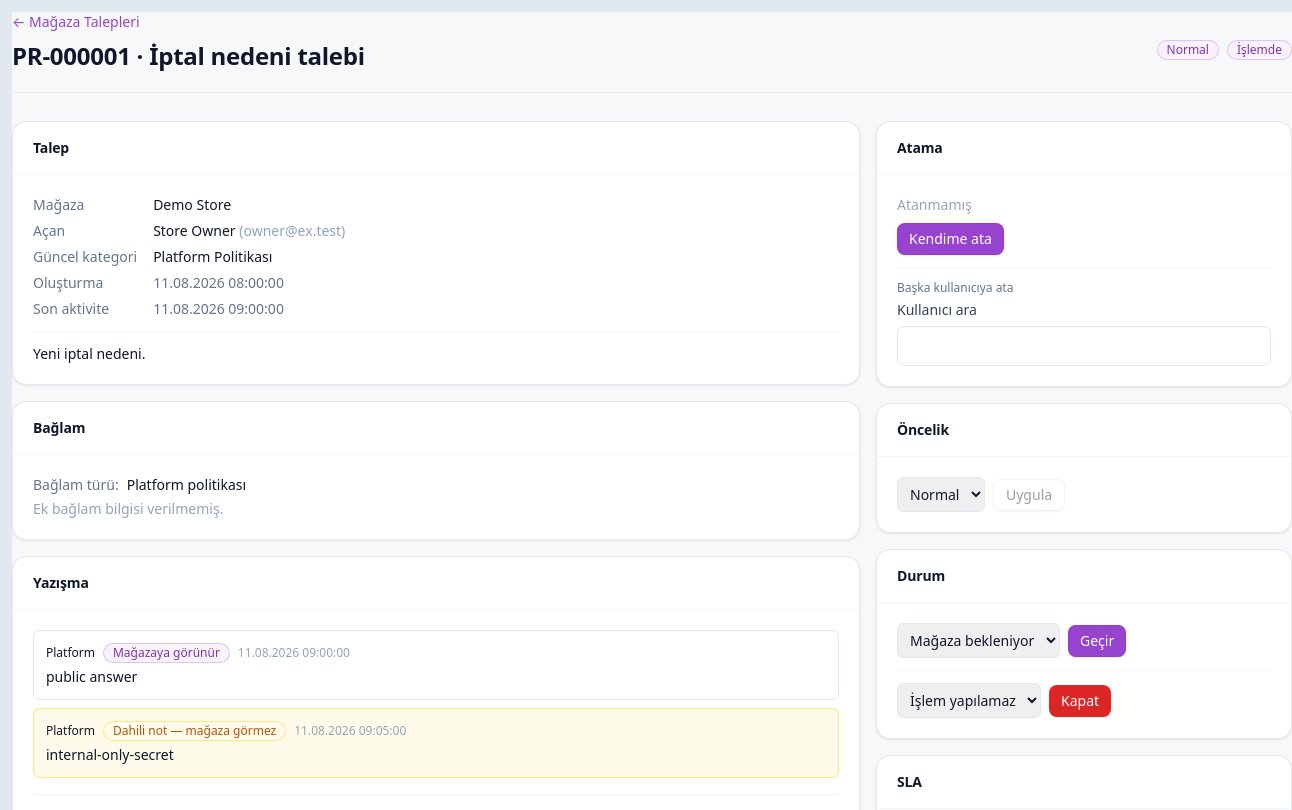
it: TODO-178 detail: internal vs visible distinction + actions › assign-to-me sends expectedVersion and applies the returned detail
Click the button "Kendime ata".
click(950, 239)  # box [897,223,1004,255]
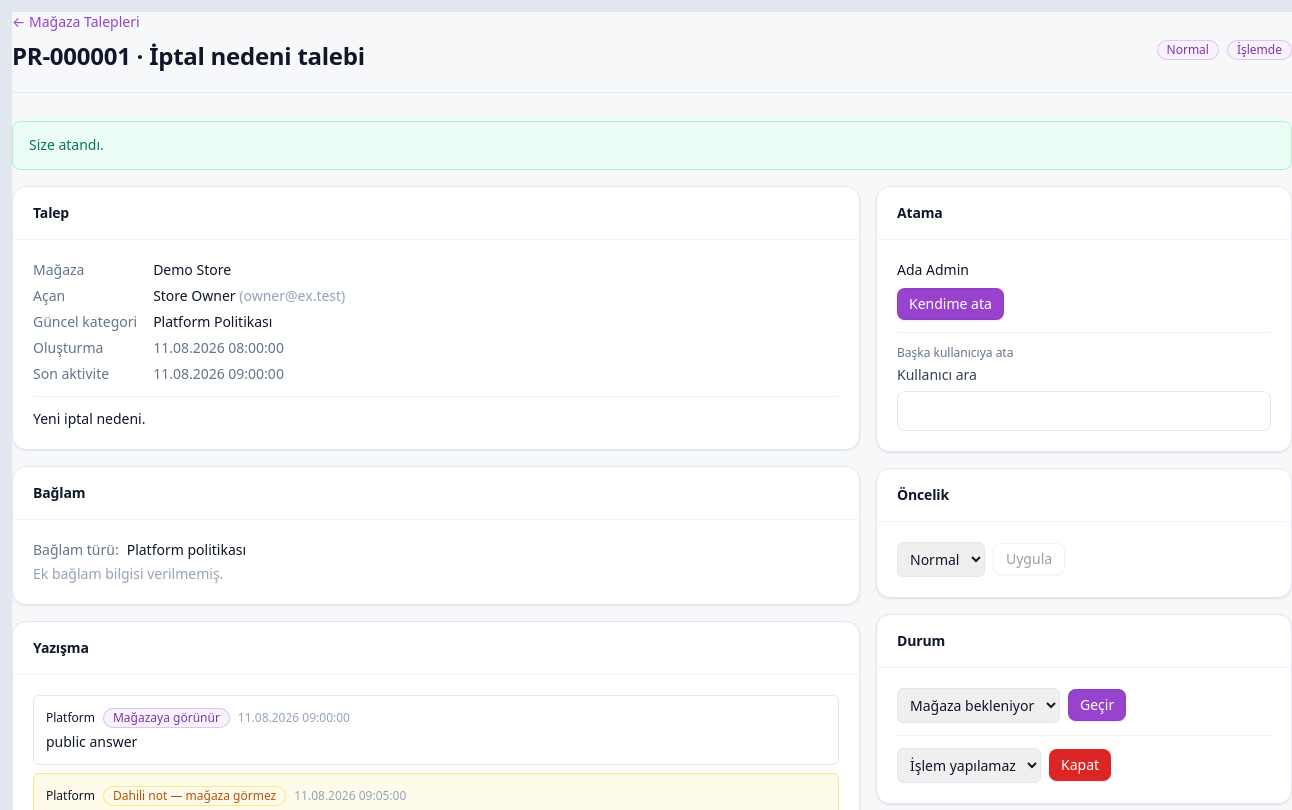
Result: the text "Ada Admin" is shown at [897,260,969,279]
